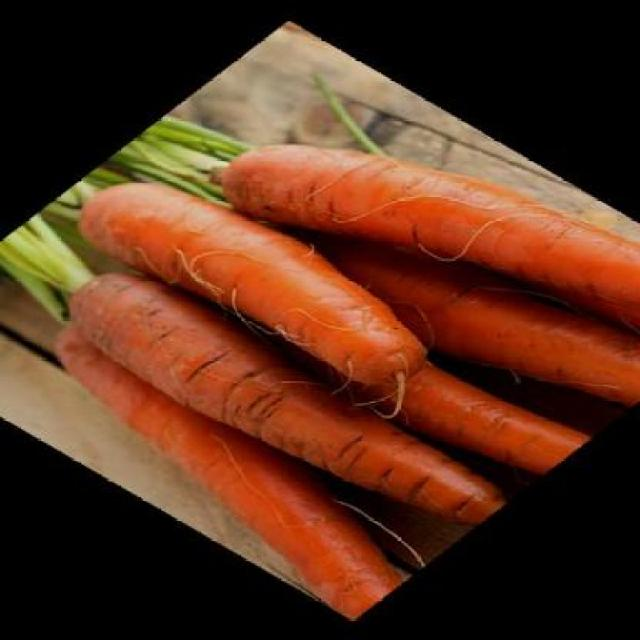carrot: (194, 61, 638, 427), (33, 253, 525, 555), (0, 316, 458, 621), (55, 152, 462, 406), (262, 169, 638, 440), (292, 303, 596, 492), (516, 226, 638, 372)
